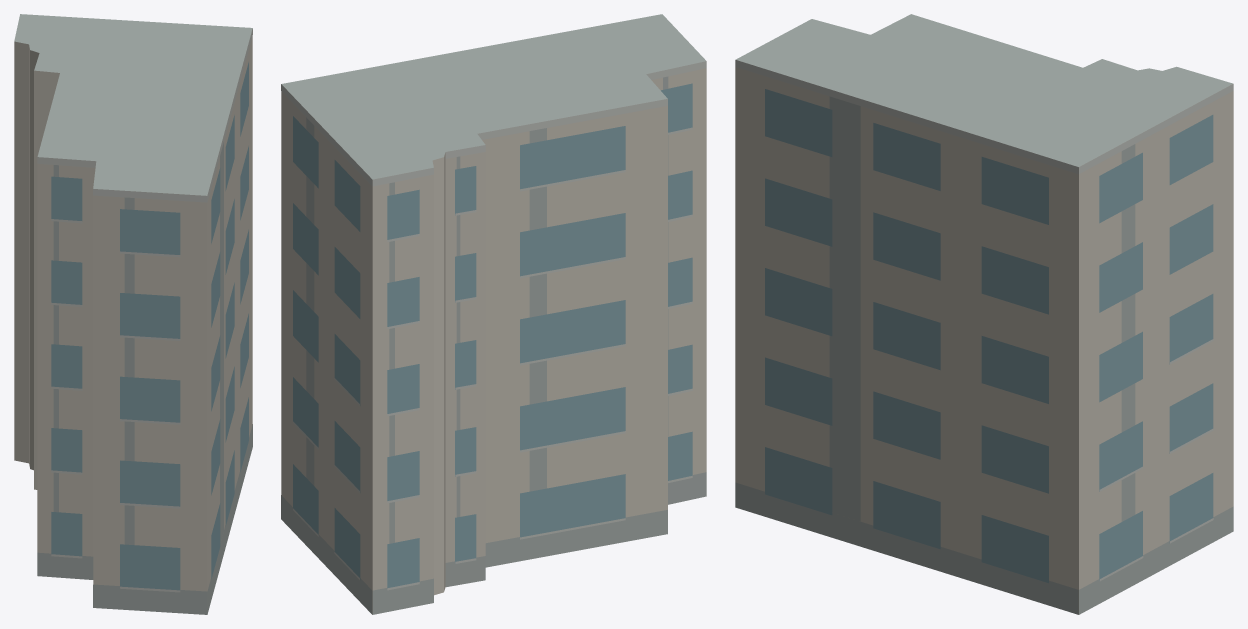
Rendered from survey-upis-32841395.glb.
3 views of the same model, side by side, from view 1: azimuth 30°, elevation 25°; view 2: azimuth 150°, elevation 25°; view 3: azimuth 270°, elevation 25° (orthographic). The views are drawn at different scales.
Parts seen in each view (by area): view 1: survey-upis-32841395.tmp; view 2: survey-upis-32841395.tmp; view 3: survey-upis-32841395.tmp.
Part boxes in pixels (left/top/right/bottom): survey-upis-32841395.tmp: left=14, top=14, right=252, bottom=614; survey-upis-32841395.tmp: left=281, top=14, right=706, bottom=614; survey-upis-32841395.tmp: left=735, top=14, right=1233, bottom=614.
Bounding box in the file's own units: 11.2 × 15.25 × 15.39.
